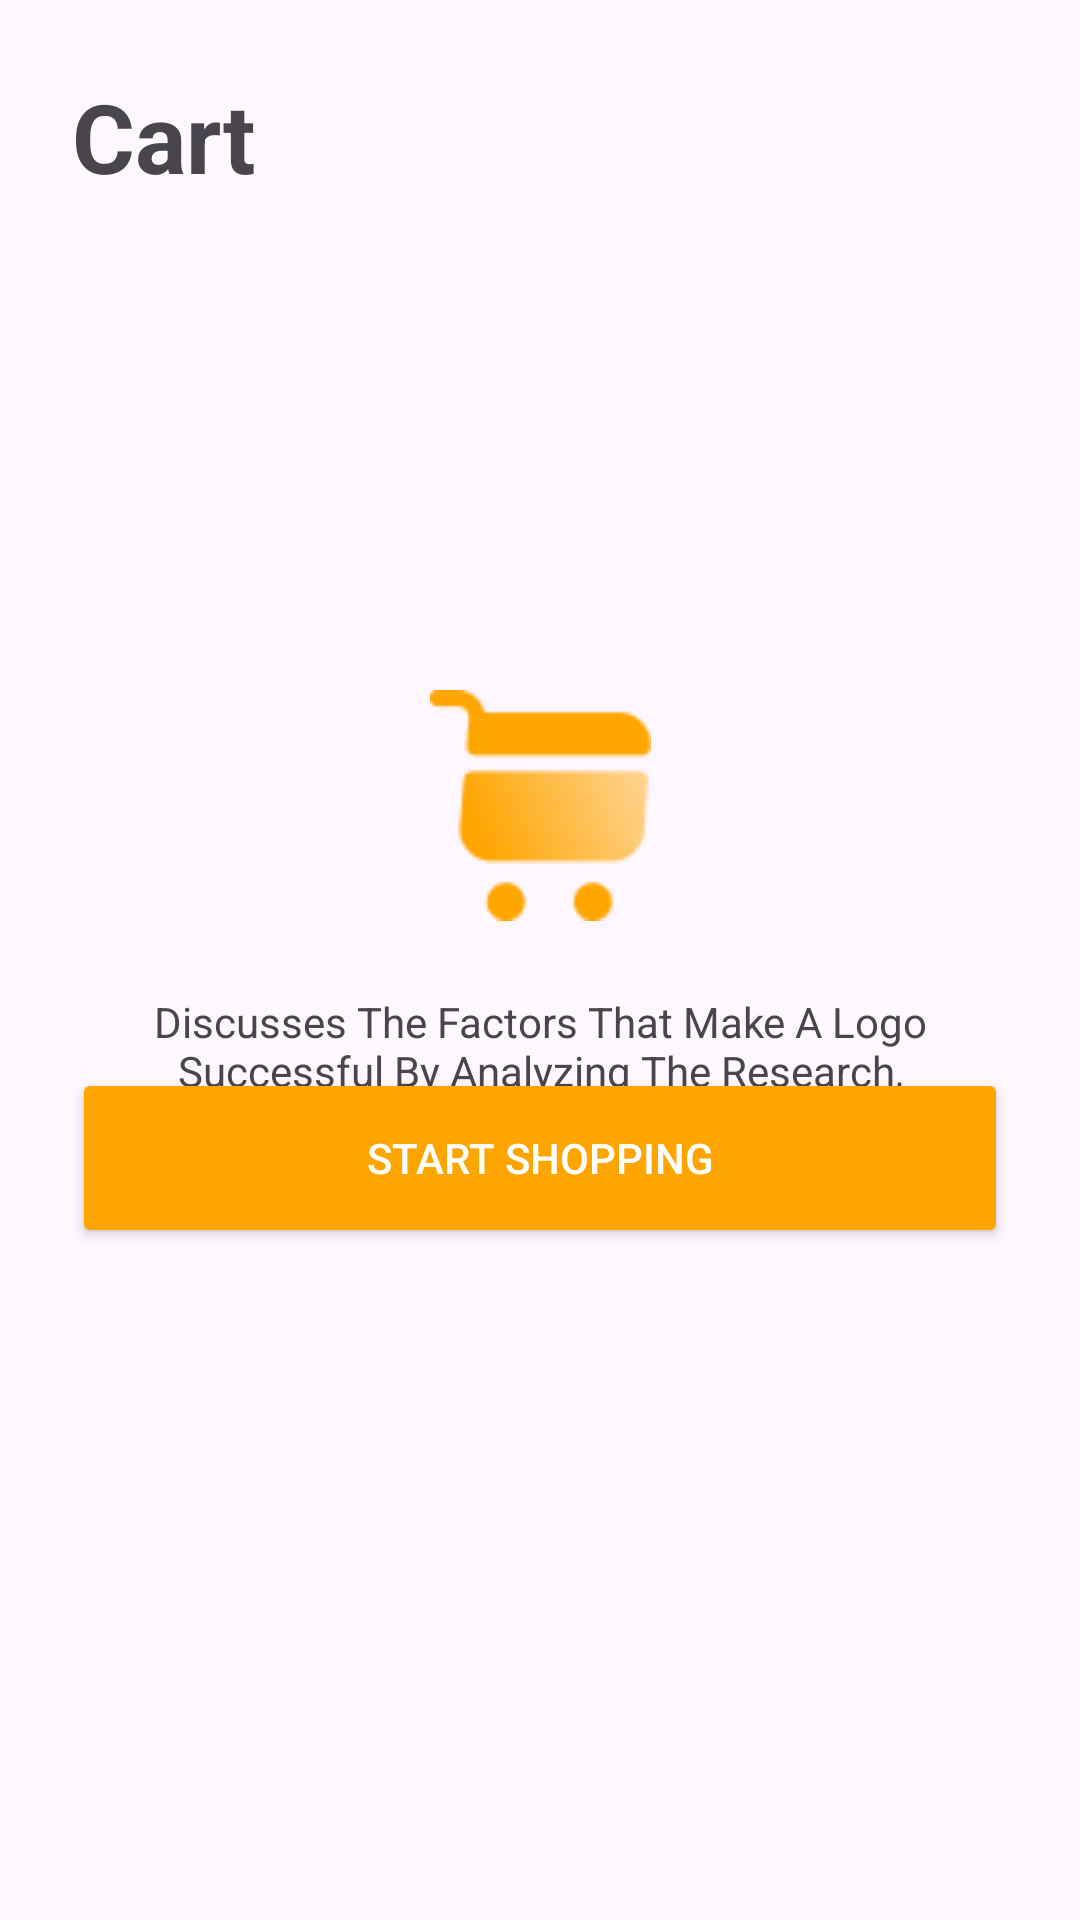

Named icons in this screenshot (1080 × 1920) and their centers, [x,y]:
Shopping Cart Icon: [540,805]
